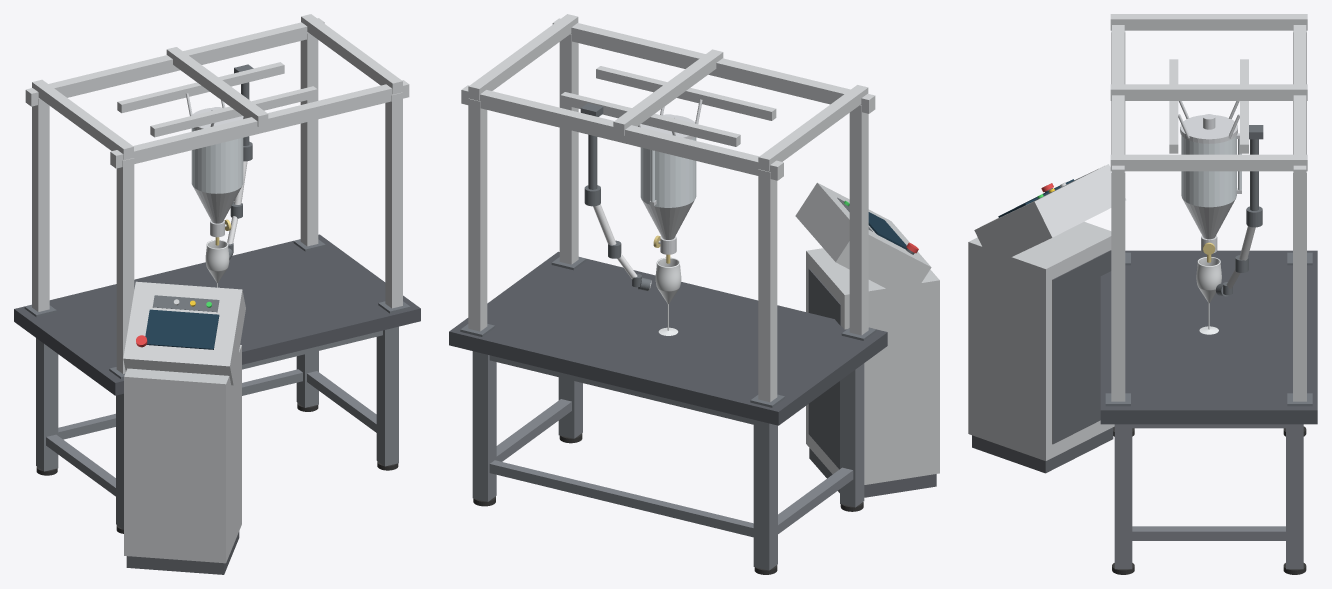
File: 3dcodebench_Wineglass_seed0_L6_Q0__gemini38flash.glb
3 renders of one model, left to right at view 1: azimuth 30°, elevation 25°; view 2: azimuth 150°, elevation 25°; view 3: azimuth 270°, elevation 25°, orthographic. The views are drawn at different scales.
Parts seen in each view (by area): view 1: object; view 2: object; view 3: object.
Part boxes in pixels (x1=…): object: x1=14, y1=14, x2=420, y2=574; object: x1=449, y1=14, x2=939, y2=574; object: x1=968, y1=14, x2=1317, y2=574.
Size of the model in its own units: 1.6 by 1.82 by 1.38.
